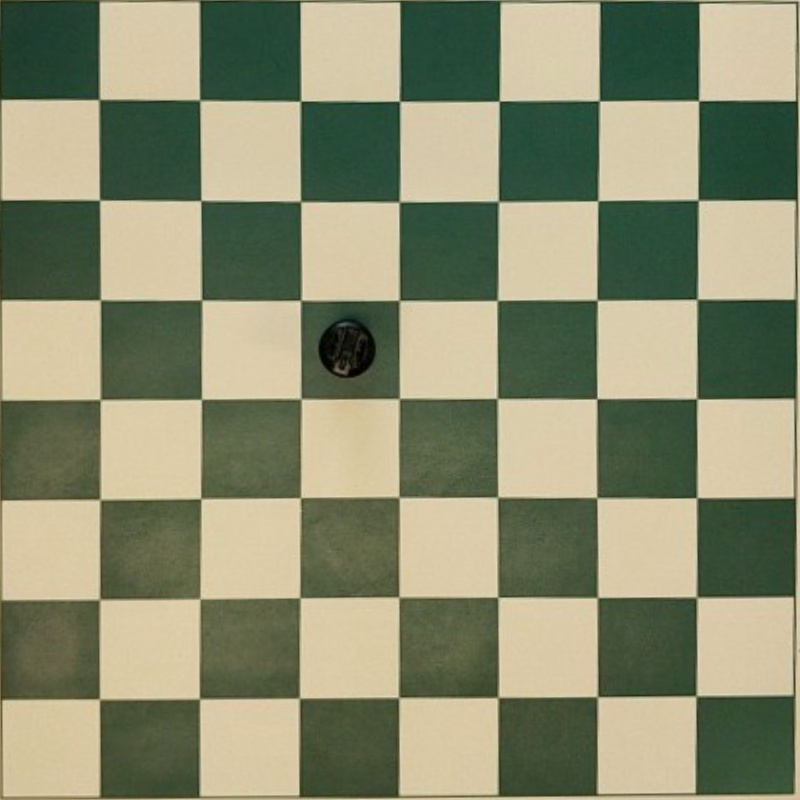black-knight: (319, 319, 376, 377)
